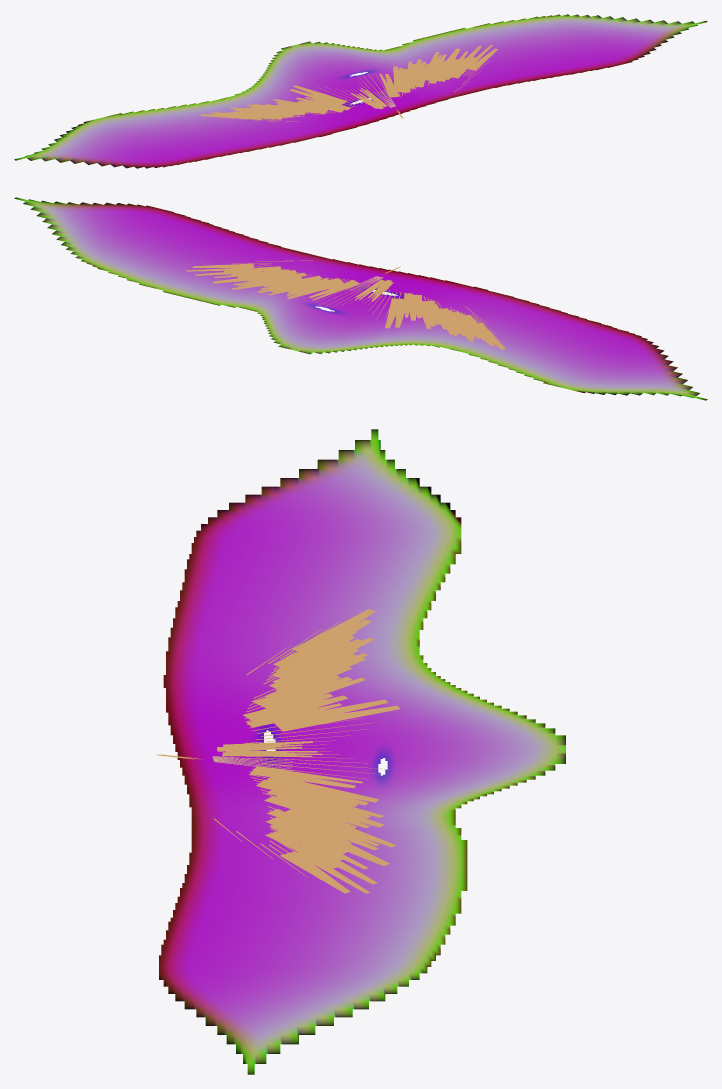
Rendered from Branson_Water.glb.
The picture shows the model from 3 angles, top to bottom: view 1: azimuth 30°, elevation 25°; view 2: azimuth 150°, elevation 25°; view 3: azimuth 270°, elevation 25°; orthographic projection. The views are drawn at different scales.
Parts seen in each view (by area): view 1: BR_Water, BR_Streaks; view 2: BR_Water, BR_Streaks; view 3: BR_Water, BR_Streaks.
Part boxes in pixels (x1=…): BR_Water: x1=14, y1=14, x2=707, y2=168; BR_Streaks: x1=201, y1=45, x2=497, y2=121; BR_Water: x1=14, y1=197, x2=707, y2=400; BR_Streaks: x1=186, y1=260, x2=505, y2=349; BR_Water: x1=159, y1=429, x2=565, y2=1074; BR_Streaks: x1=156, y1=609, x2=400, y2=893.
Size of the model in its own units: 1962 by 0.4906 by 527.
